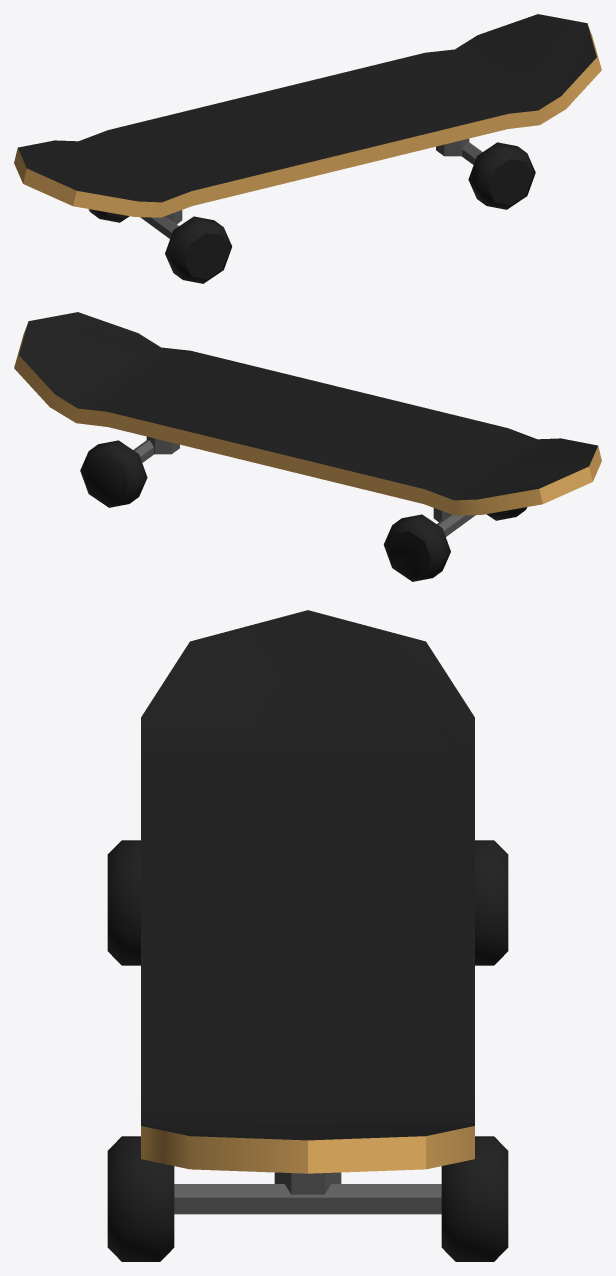
The model's file is skateboard.glb.
3 views of the same model, one above another, from view 1: azimuth 30°, elevation 25°; view 2: azimuth 150°, elevation 25°; view 3: azimuth 270°, elevation 25° (orthographic). The views are drawn at different scales.
Visible parts, largest first — view 1: Cube; view 2: Cube; view 3: Cube.
Boxes of the visible parts, bbox=[...] form: Cube: bbox=[14, 14, 601, 283]; Cube: bbox=[14, 312, 601, 581]; Cube: bbox=[107, 610, 508, 1261].
Size of the model in its own units: 5.51 by 1.13 by 1.68.
